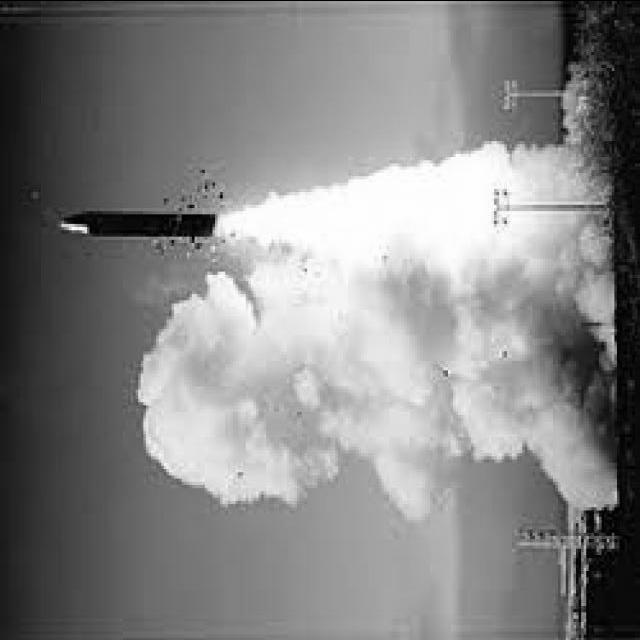Missile: (52, 205, 220, 248)
